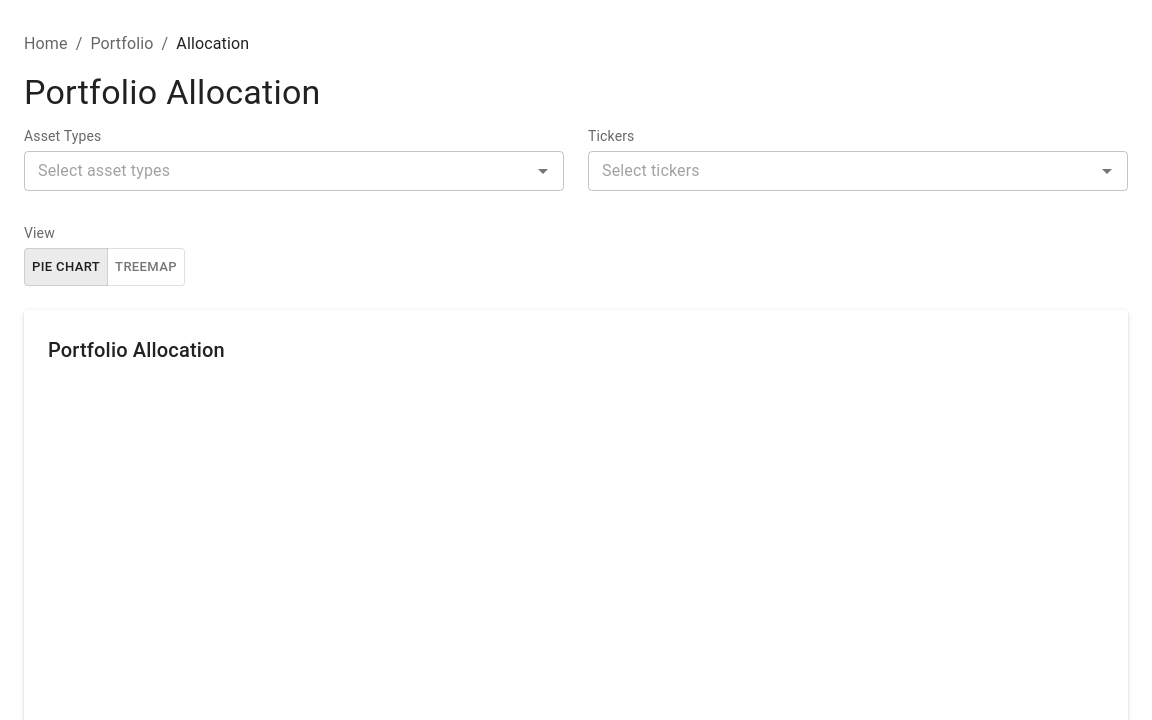
Test: PortfolioAllocation › allows mixed selections (asset type from one category, ticker from another)
This screenshot has width=1152, height=720.
Check: the 1st heading "Portfolio Allocation" is shown, box [24,72,321,112]
Click the element named "Filter by asset types" at (294, 171), box [24,151,564,191]
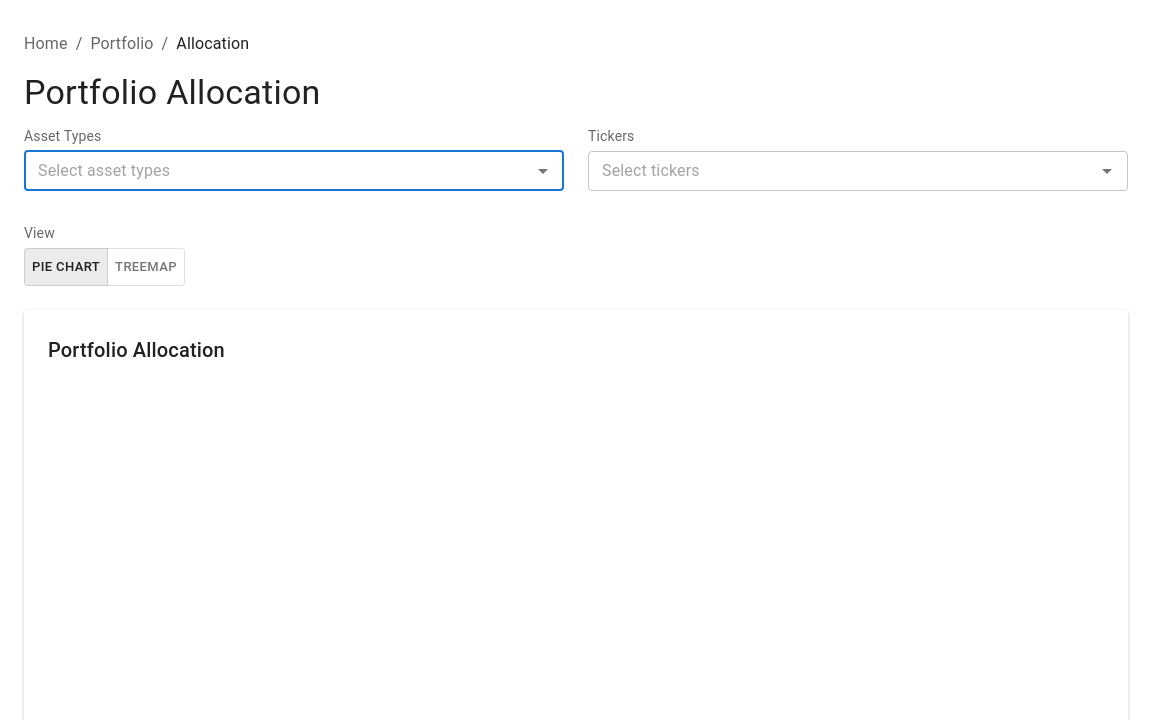
Type "Crypto" into the element named "Filter by asset types" at (294, 171), box [24,151,564,191]
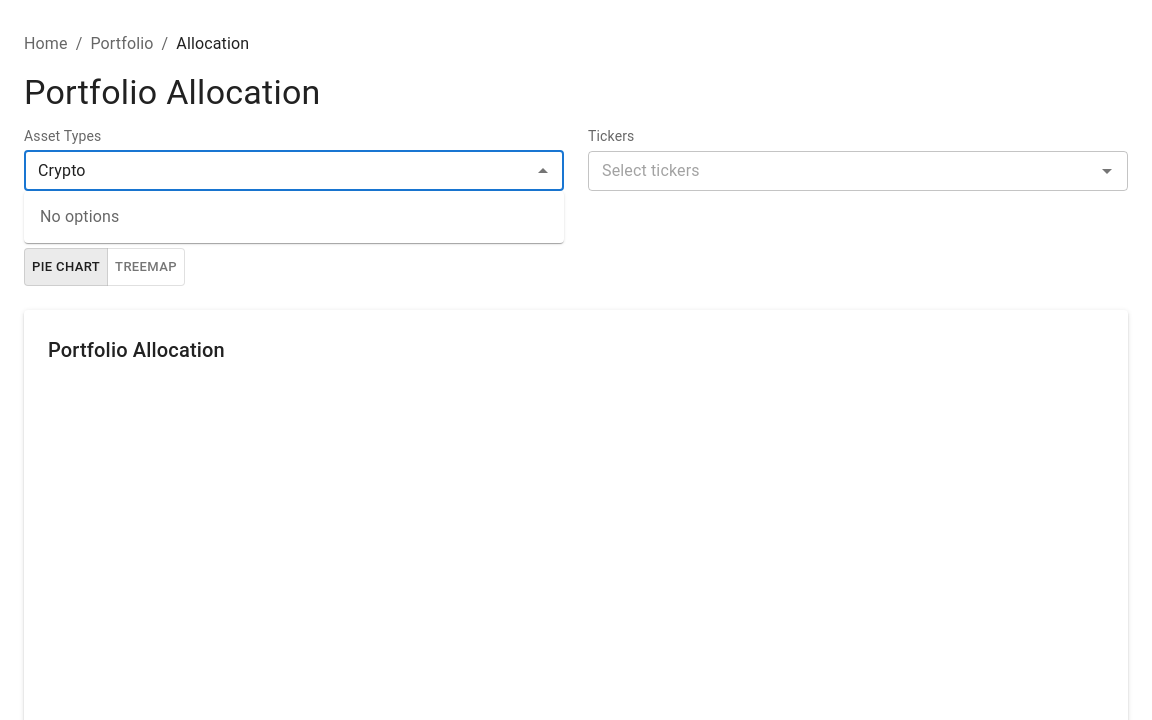
// Even though we selected Crypto, we should still be able to select VOO (ETF ticker)
Click the element named "Filter by ticker symbols" at (858, 171), box [588,151,1128,191]
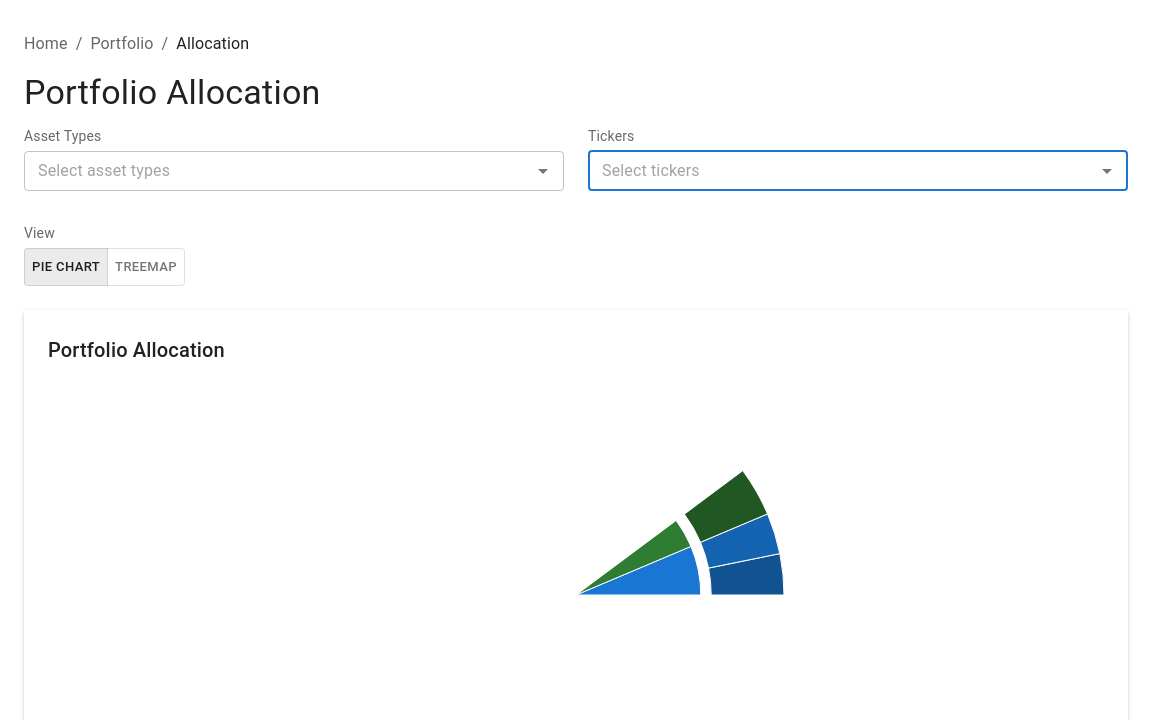
Type "VOO" into the element named "Filter by ticker symbols" at (858, 171), box [588,151,1128,191]
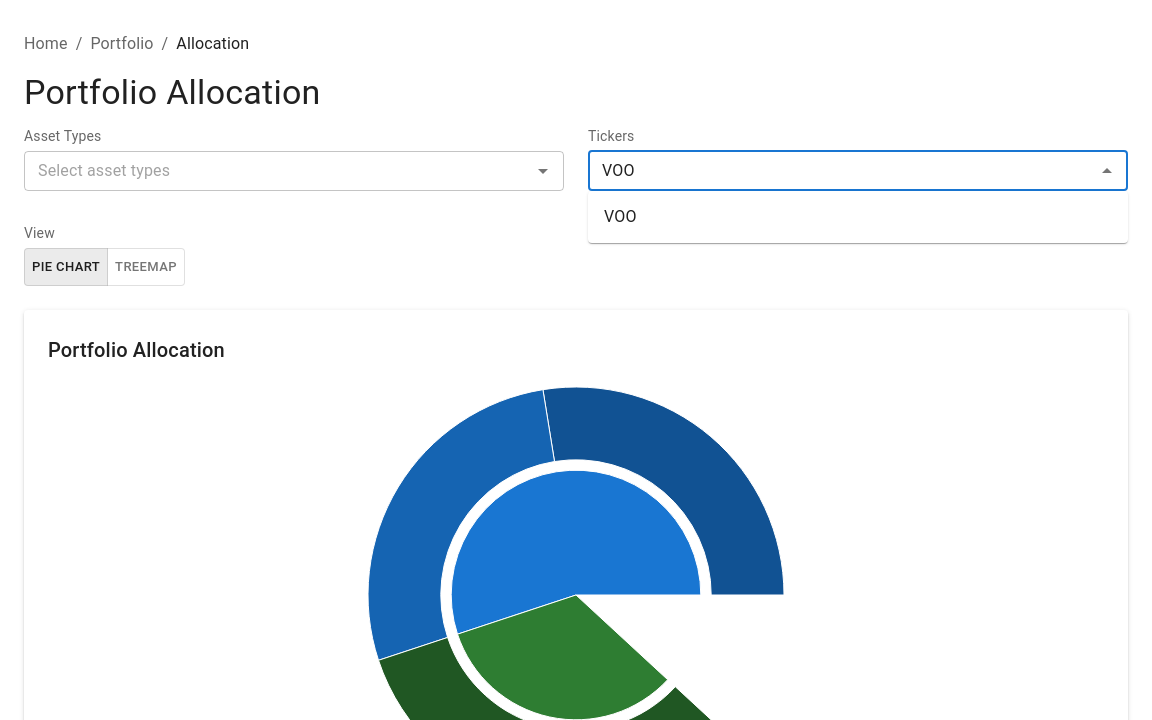
Check: the option "VOO" is shown, box [604,207,637,226]
